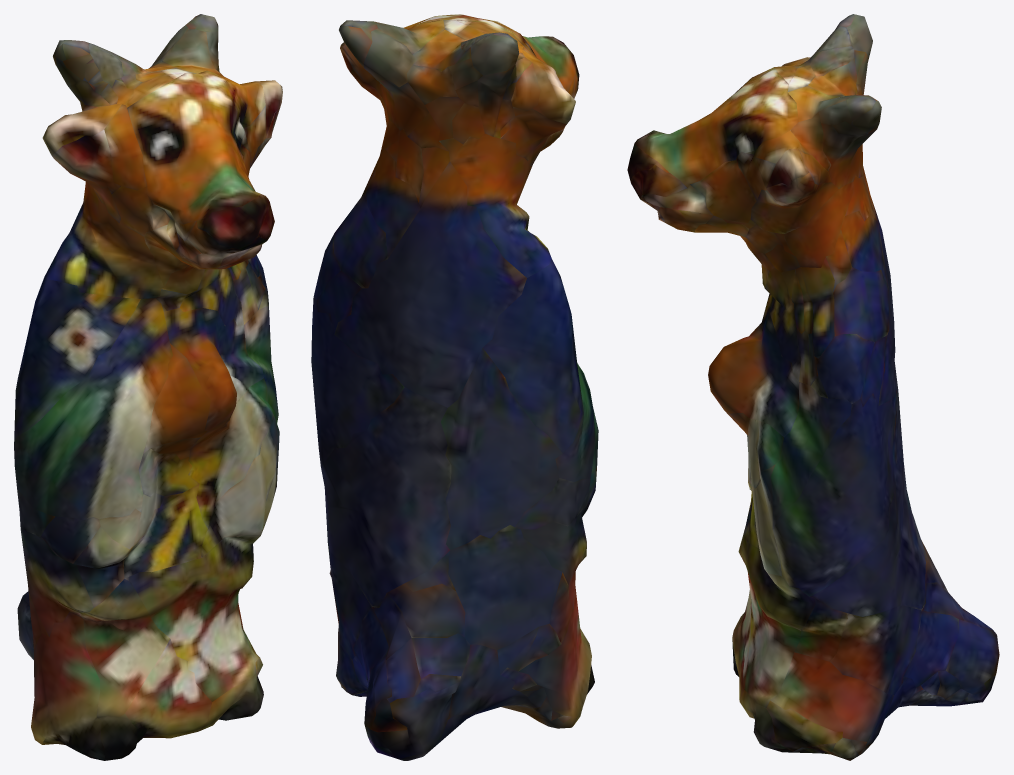
The model's file is hall.glb.
3 views of the same model, side by side, from view 1: azimuth 30°, elevation 25°; view 2: azimuth 150°, elevation 25°; view 3: azimuth 270°, elevation 25° (orthographic). The views are drawn at different scales.
Size of the model in its own units: 0.2418 by 0.6162 by 0.3101.
Materials: 1 (1 with a texture image).
